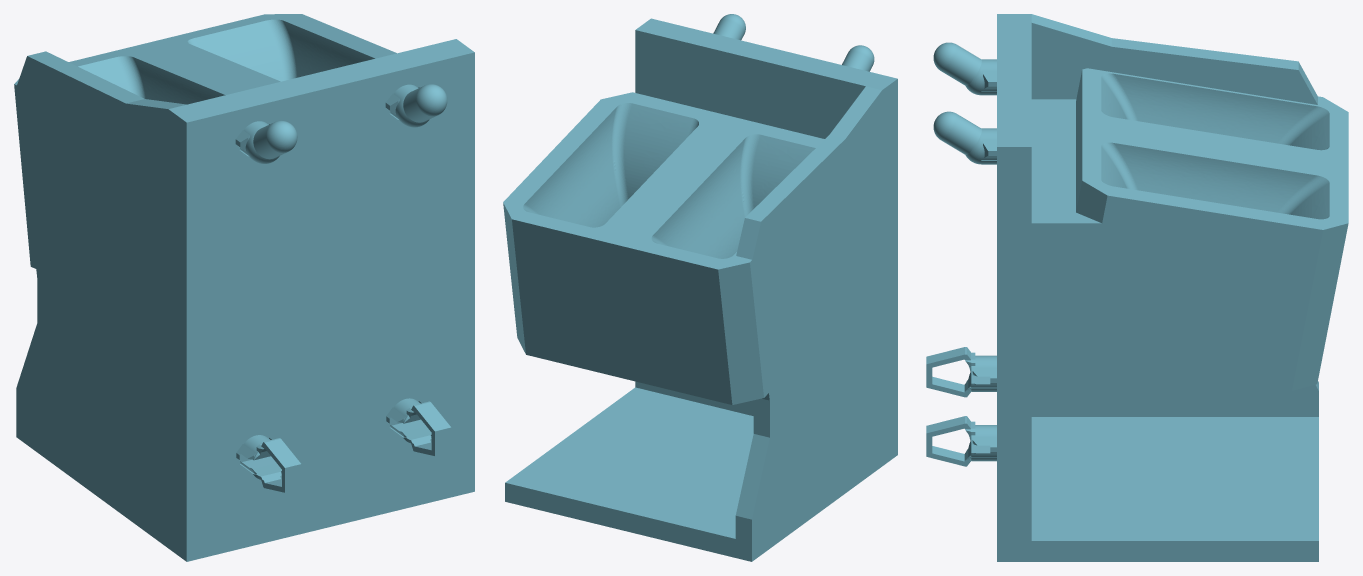
The model's file is part-snips-pliers__current-mounts-v1__fit-pf02c9-hoop5__installed.glb.
3 views of the same model, side by side, from view 1: azimuth 30°, elevation 25°; view 2: azimuth 150°, elevation 25°; view 3: azimuth 270°, elevation 25° (orthographic). The views are drawn at different scales.
Visible parts, largest first — view 1: installed.stl; view 2: installed.stl; view 3: installed.stl.
Part boxes in pixels (left/top/right/bottom): installed.stl: left=14, top=14, right=474, bottom=561; installed.stl: left=503, top=14, right=897, bottom=561; installed.stl: left=926, top=14, right=1348, bottom=561.
Bounding box in the file's own units: 0.0488 × 0.0714 × 0.0656.
